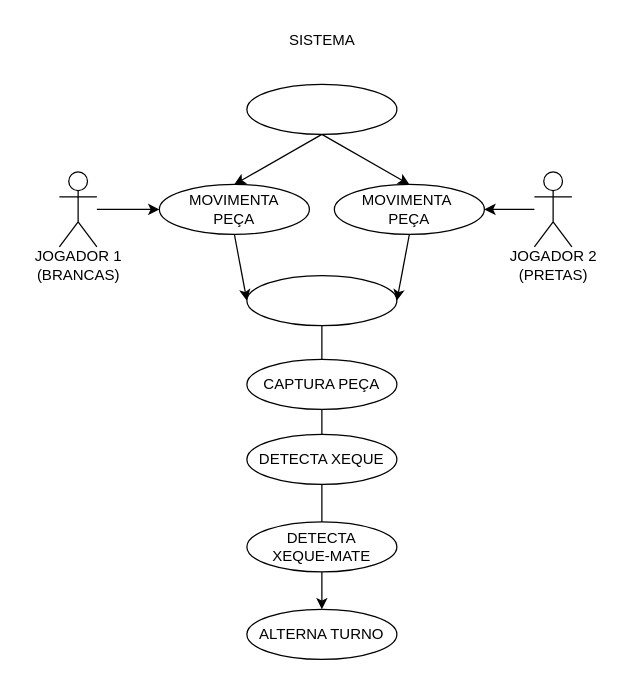
This 630x681 diagram has some shape labels left out. The shapes that lost their labels are listed below. From the top down, each one's centre as x and y in pixels, then its label:
point 321,108: INICIAR JOGO
point 321,300: VALIDA MOVIMENTO
